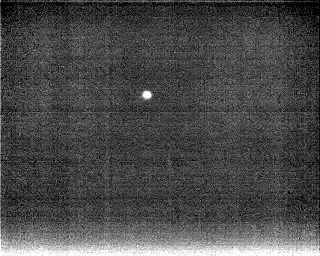AIRPLANE: (140, 88, 154, 102)
